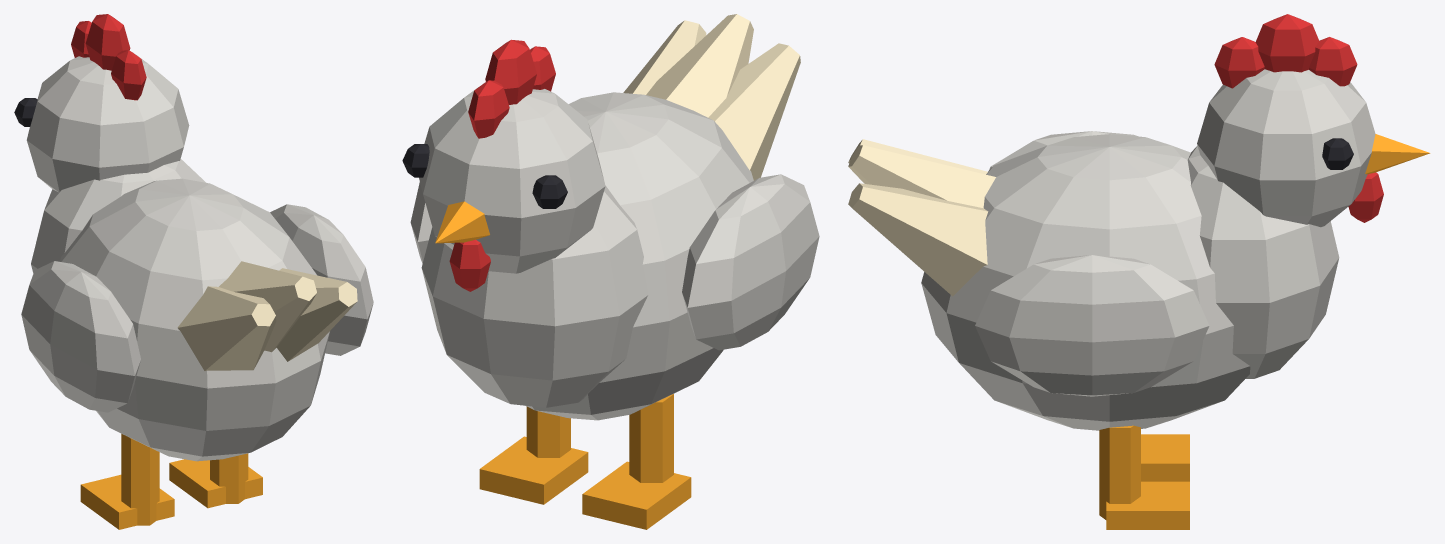
File: Chicken.fbx
3 renders of one model, left to right at view 1: azimuth 30°, elevation 25°; view 2: azimuth 150°, elevation 25°; view 3: azimuth 270°, elevation 25°, orthographic. The views are drawn at different scales.
Visible parts, largest first — view 1: Chicken; view 2: Chicken; view 3: Chicken.
Part boxes in pixels (x1,y1,x2,y2): Chicken: (14,14,373,529); Chicken: (402,14,819,529); Chicken: (848,14,1430,529).
Bounding box in the file's own units: 29.79 × 42.28 × 46.74.
